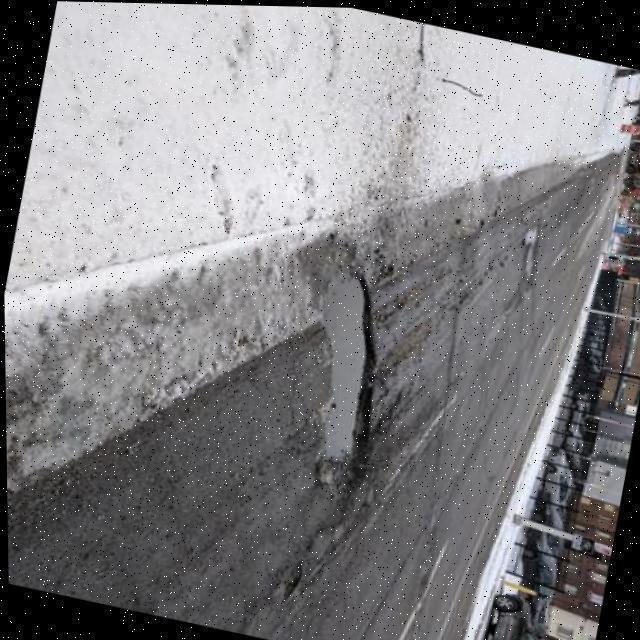Pothole: (301, 223, 378, 514)
